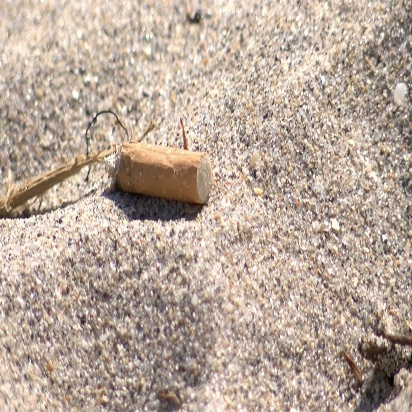cigarette: (106, 137, 218, 210)
